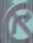Don't turn right: (3, 2, 31, 41)
